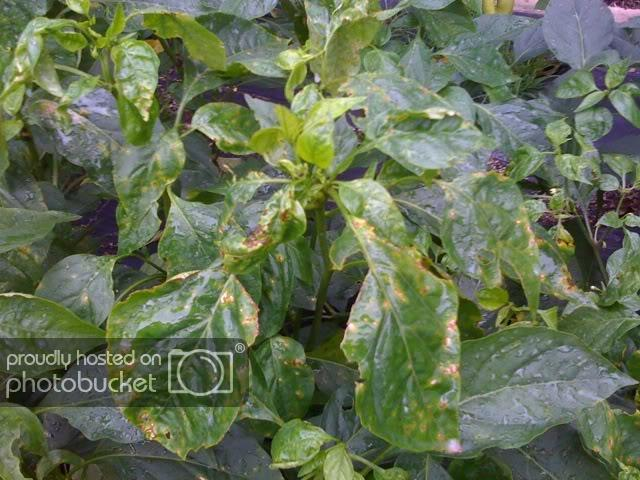Bell_pepper leaf: (332, 168, 466, 459), (105, 266, 258, 466), (442, 171, 545, 322), (220, 175, 310, 280), (108, 37, 167, 124)
